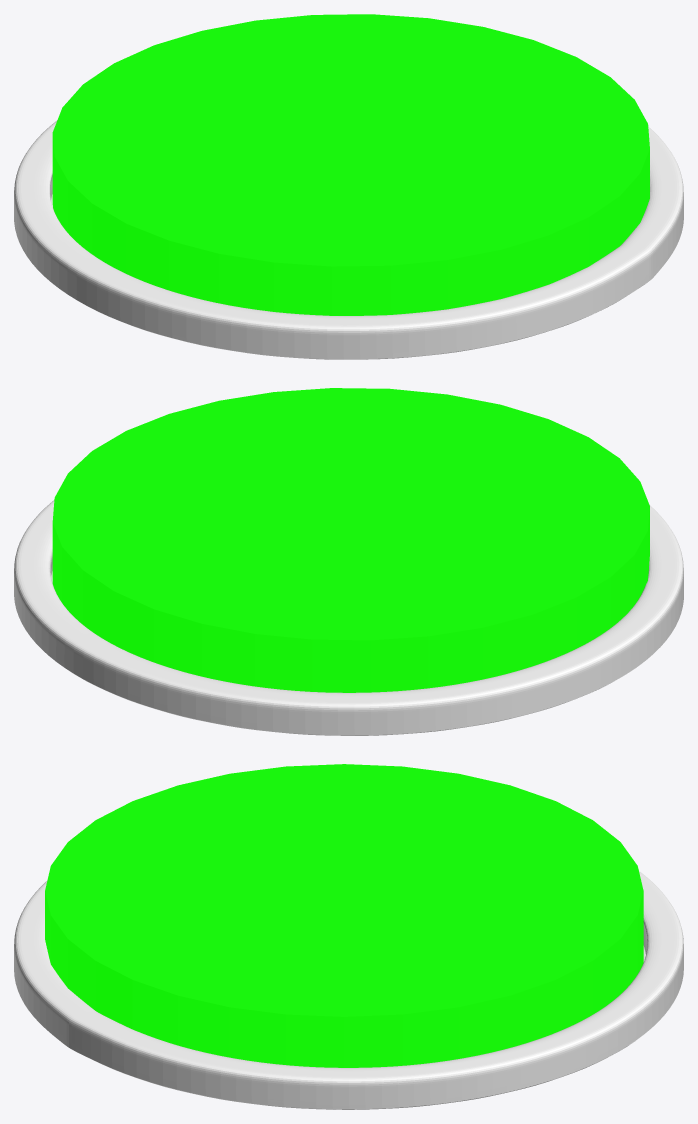
File: butttton.glb
3 renders of one model, top to bottom at view 1: azimuth 30°, elevation 25°; view 2: azimuth 150°, elevation 25°; view 3: azimuth 270°, elevation 25°, orthographic.
Visible parts, largest first — view 1: Cylinder.001, Cylinder; view 2: Cylinder.001, Cylinder; view 3: Cylinder.001, Cylinder.
Part boxes in pixels (box(x1,y1,x2,y2)): Cylinder.001: box(52, 14, 649, 315); Cylinder: box(14, 120, 683, 359); Cylinder.001: box(52, 388, 649, 692); Cylinder: box(14, 500, 683, 735); Cylinder.001: box(45, 764, 643, 1067); Cylinder: box(14, 871, 683, 1109).
Bounding box in the file's own units: 1.99 × 0.2691 × 1.99.
